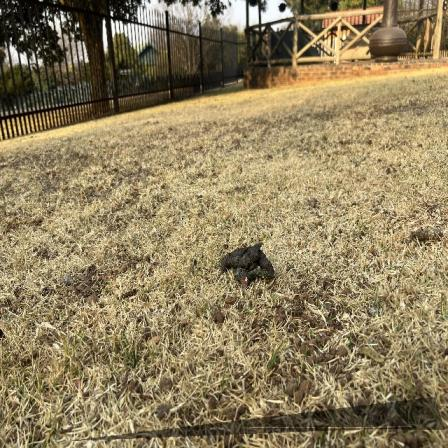dog-poop: (221, 245, 274, 286)
